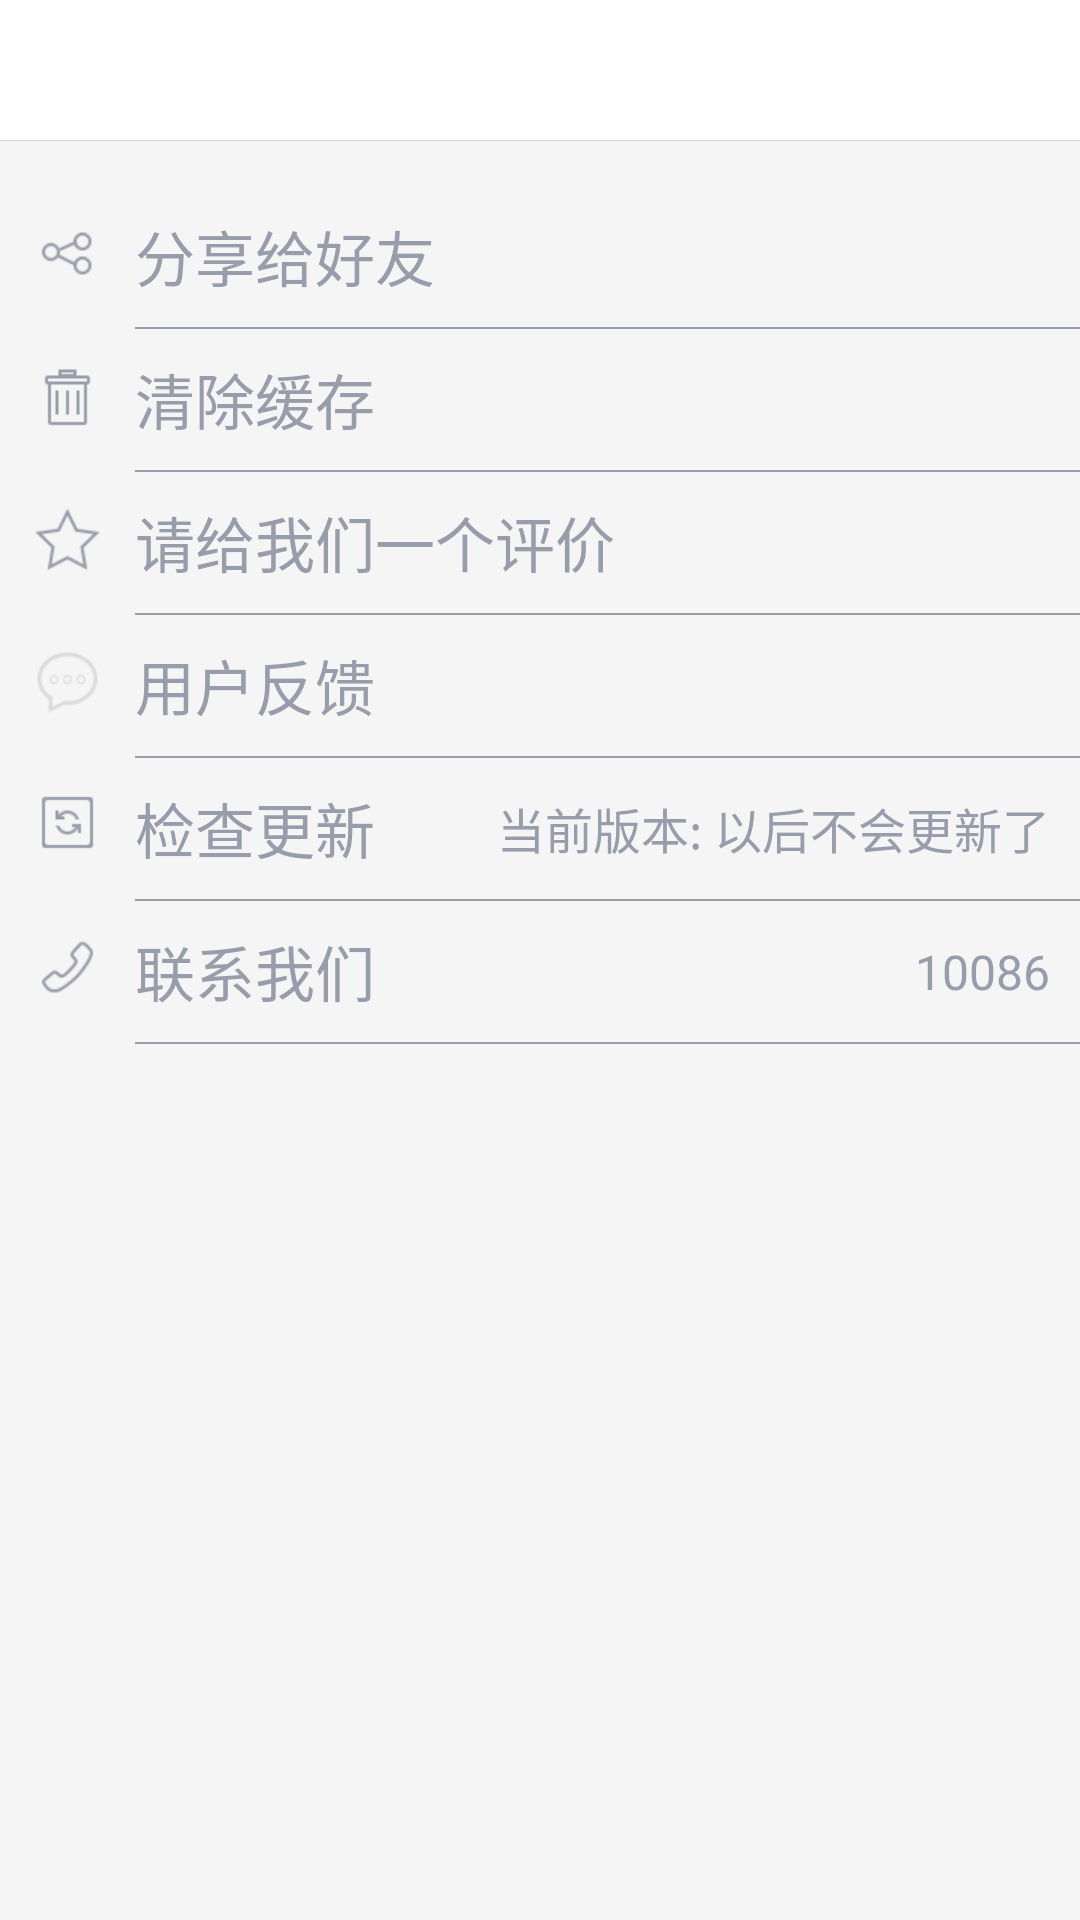

Named icons in this screenshot (1080px×1920px) and their bounding boxes, (x1, y1, x2, y2):
setting share app: (42, 232, 92, 275)
star: (36, 509, 99, 570)
tel: (42, 941, 93, 993)
trash: (45, 369, 90, 425)
update: (42, 797, 93, 848)
